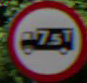Heavy Vehicles: (4, 0, 83, 76)
